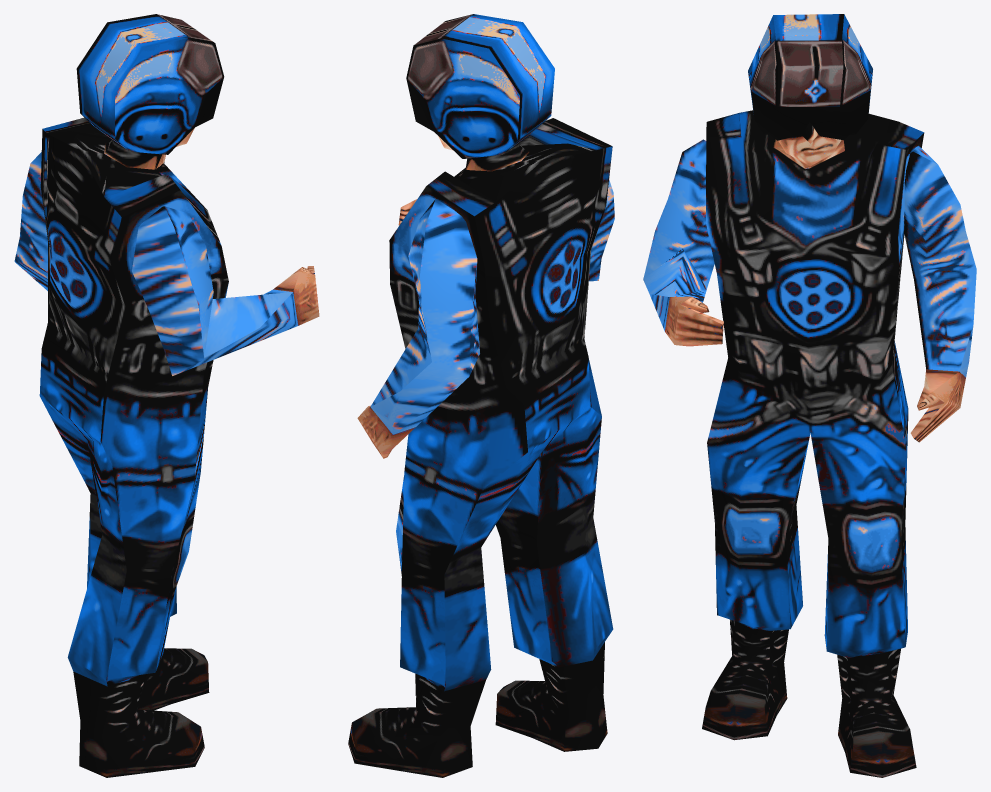
Rendered from hvyweapon2_blue.glb.
3 views of the same model, side by side, from view 1: azimuth 30°, elevation 25°; view 2: azimuth 150°, elevation 25°; view 3: azimuth 270°, elevation 25° (orthographic). The views are drawn at different scales.
Parts seen in each view (by area): view 1: hvyweapon2; view 2: hvyweapon2; view 3: hvyweapon2.
Part boxes in pixels (x1=…): hvyweapon2: x1=14, y1=14, x2=319, y2=777; hvyweapon2: x1=348, y1=14, x2=614, y2=777; hvyweapon2: x1=643, y1=14, x2=976, y2=777.
Size of the model in its own units: 25.59 by 77.83 by 33.23.
2 materials, 2 textured.
